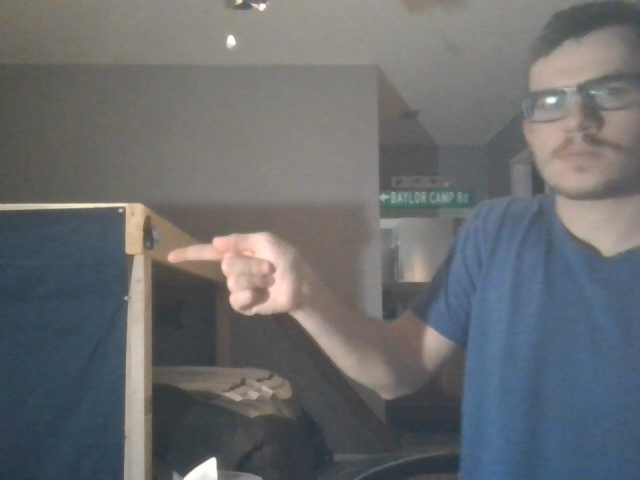G: (157, 228, 316, 341)
